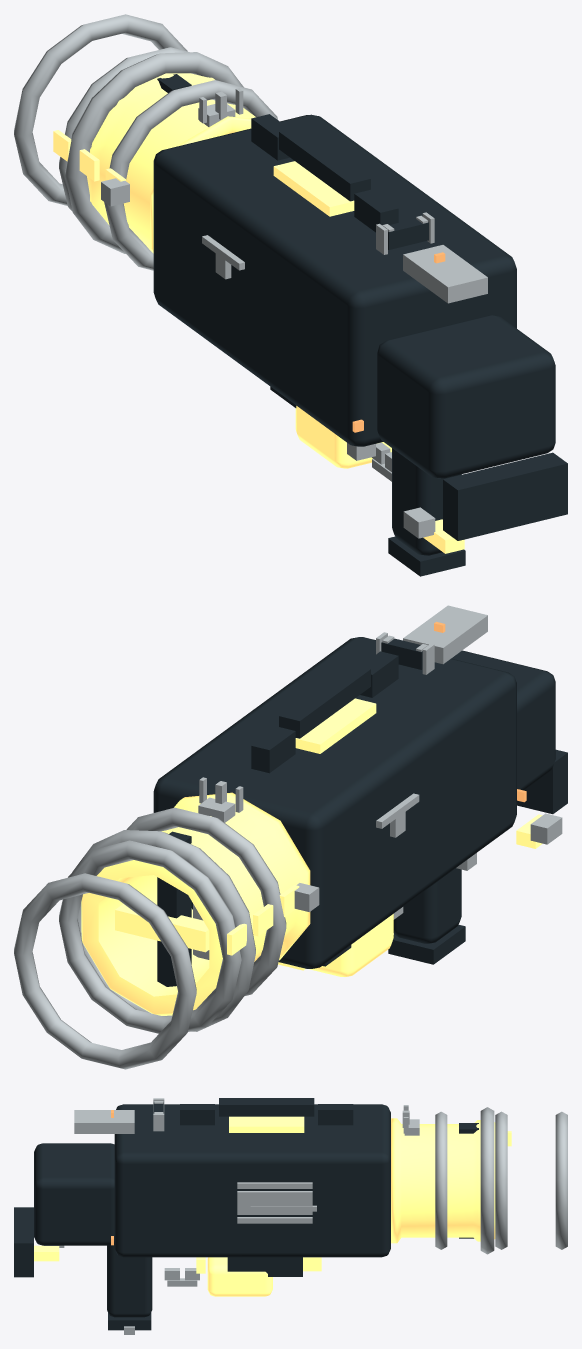
File: weapon-1.glb
3 renders of one model, top to bottom at view 1: azimuth 30°, elevation 25°; view 2: azimuth 150°, elevation 25°; view 3: azimuth 270°, elevation 25°, orthographic. The views are drawn at different scales.
Parts seen in each view (by area): view 1: WorldBatch0, WorldBatch2, WorldBatch1; view 2: WorldBatch0, WorldBatch2, WorldBatch1; view 3: WorldBatch0, WorldBatch2, WorldBatch1.
Part boxes in pixels (left/top/right/bottom): WorldBatch0: left=153, top=74, right=567, bottom=576; WorldBatch2: left=14, top=14, right=487, bottom=538; WorldBatch1: left=53, top=73, right=464, bottom=553; WorldBatch0: left=153, top=637, right=567, bottom=986; WorldBatch2: left=14, top=605, right=562, bottom=1069; WorldBatch1: left=81, top=698, right=542, bottom=1015; WorldBatch0: left=14, top=1098, right=478, bottom=1330; WorldBatch2: left=44, top=1098, right=567, bottom=1334; WorldBatch1: left=34, top=1116, right=511, bottom=1296.
Size of the model in its own units: 0.308 by 0.493 by 1.1.
